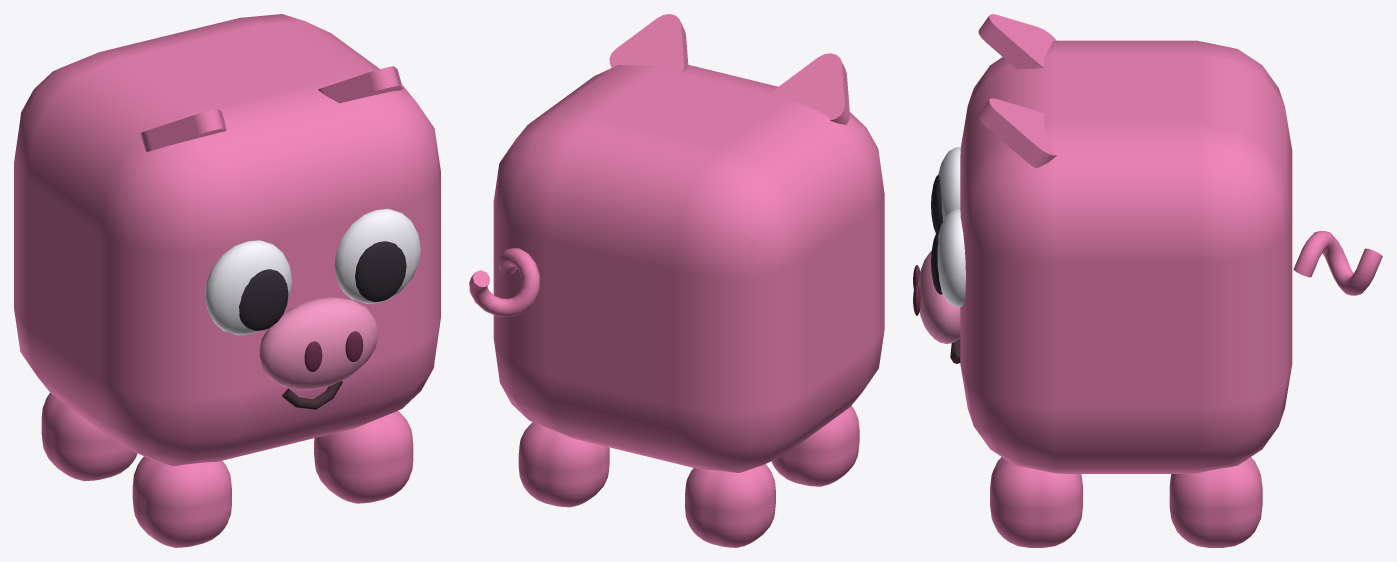
File: pet-pig.glb
3 renders of one model, left to right at view 1: azimuth 30°, elevation 25°; view 2: azimuth 150°, elevation 25°; view 3: azimuth 270°, elevation 25°, orthographic. The views are drawn at different scales.
Parts seen in each view (by area): view 1: body, snout, foot_L_front, foot_R_front, foot_L_back, eye_white_-1, eye_white_1, pupil_1, pupil_-1, ear_-1, ear_1, smile; view 2: body, foot_L_back, foot_R_back, foot_L_front, ear_-1, ear_1, curly_tail; view 3: body, foot_R_back, foot_R_front, ear_1, curly_tail, ear_-1, eye_white_1, snout, eye_white_-1.
Part boxes in pixels (bbox=[...]): body: bbox=[14, 14, 440, 466]; snout: bbox=[259, 297, 378, 389]; foot_L_front: bbox=[132, 456, 231, 547]; foot_R_front: bbox=[314, 411, 413, 503]; foot_L_back: bbox=[41, 393, 137, 481]; eye_white_-1: bbox=[205, 240, 291, 335]; eye_white_1: bbox=[334, 208, 420, 303]; pupil_1: bbox=[355, 241, 406, 301]; pupil_-1: bbox=[239, 269, 288, 330]; ear_-1: bbox=[140, 109, 226, 152]; ear_1: bbox=[318, 66, 402, 103]; smile: bbox=[282, 381, 342, 409]; body: bbox=[493, 65, 884, 472]; foot_L_back: bbox=[685, 464, 775, 547]; foot_R_back: bbox=[518, 422, 609, 507]; foot_L_front: bbox=[771, 406, 859, 486]; ear_-1: bbox=[772, 53, 849, 124]; ear_1: bbox=[609, 14, 688, 71]; curly_tail: bbox=[469, 248, 540, 316]; body: bbox=[960, 40, 1292, 473]; foot_R_back: bbox=[1169, 457, 1262, 547]; foot_R_front: bbox=[990, 457, 1082, 547]; ear_1: bbox=[978, 98, 1056, 167]; curly_tail: bbox=[1293, 230, 1382, 295]; ear_-1: bbox=[978, 14, 1056, 69]; eye_white_1: bbox=[937, 209, 965, 307]; snout: bbox=[918, 251, 960, 343]; eye_white_-1: bbox=[938, 147, 960, 221].
Bounding box in the file's own units: 1.12 × 1.46 × 1.41.
